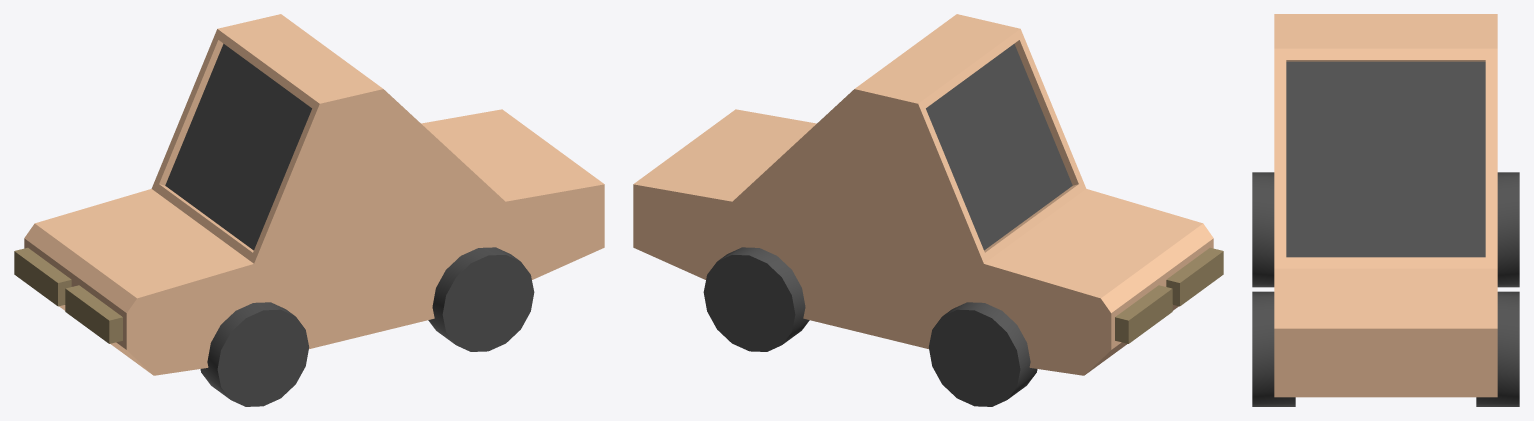
Rendered from car-custom-orange.glb.
3 views of the same model, side by side, from view 1: azimuth 30°, elevation 25°; view 2: azimuth 150°, elevation 25°; view 3: azimuth 270°, elevation 25° (orthographic). The views are drawn at different scales.
Parts seen in each view (by area): view 1: Cube, WINDHIELD, Cylinder, Cylinder 1, lights; view 2: Cube, WINDHIELD, Cylinder 2, Cylinder 3, lights; view 3: Cube, WINDHIELD, Cylinder 1, Cylinder 3, Cylinder 2, Cylinder.
Boxes of the visible parts, x1,y1,x2,y2 form: Cube: (24,14,604,375); WINDHIELD: (165,43,311,250); Cylinder: (200,302,309,406); Cylinder 1: (428,247,534,351); lights: (14,247,122,343); Cube: (633,14,1213,375); WINDHIELD: (926,43,1072,250); Cylinder 2: (928,302,1037,406); Cylinder 3: (703,247,809,351); lights: (1115,247,1223,343); Cube: (1274,14,1497,397); WINDHIELD: (1286,61,1485,257); Cylinder 1: (1252,291,1295,406); Cylinder 3: (1476,291,1519,406); Cylinder 2: (1497,172,1519,287); Cylinder: (1252,172,1274,287).
Bounding box in the file's own units: 0.1444 × 0.0782 × 0.0625.
